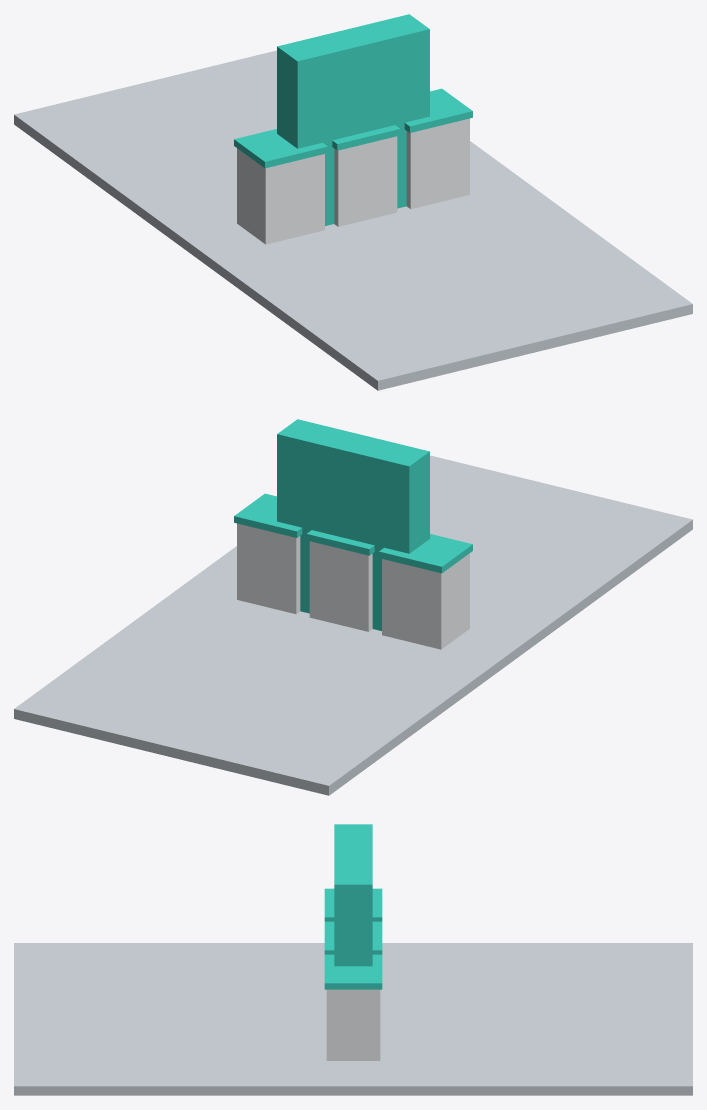
The picture shows the model from 3 angles, top to bottom: view 1: azimuth 30°, elevation 25°; view 2: azimuth 150°, elevation 25°; view 3: azimuth 270°, elevation 25°; orthographic projection. The views are drawn at different scales.
Parts seen in each view (by area): view 1: Exhibition Booth Concept; view 2: Exhibition Booth Concept; view 3: Exhibition Booth Concept.
Boxes of the visible parts, box(x1,y1,x2,y2) form: Exhibition Booth Concept: box(14, 14, 692, 390); Exhibition Booth Concept: box(14, 419, 692, 795); Exhibition Booth Concept: box(14, 824, 692, 1095).
Bounding box in the file's own units: 4 × 2.2 × 8.
